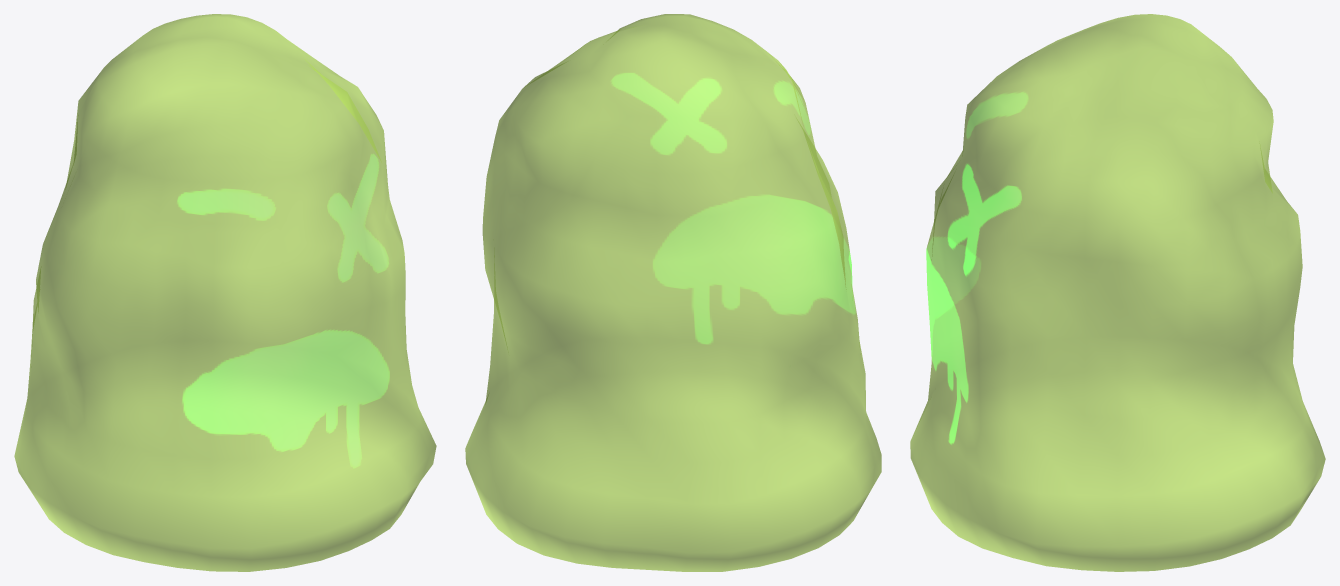
File: grease.glb
3 renders of one model, left to right at view 1: azimuth 30°, elevation 25°; view 2: azimuth 150°, elevation 25°; view 3: azimuth 270°, elevation 25°, orthographic. The views are drawn at different scales.
Parts seen in each view (by area): view 1: Cylinder; view 2: Cylinder; view 3: Cylinder.
Boxes of the visible parts, x1,y1,x2,y2 form: Cylinder: [14, 14, 436, 571]; Cylinder: [465, 14, 881, 571]; Cylinder: [910, 14, 1325, 571].
Size of the model in its own units: 2.68 by 3.28 by 2.67.
Materials: 1 (1 with a texture image).
